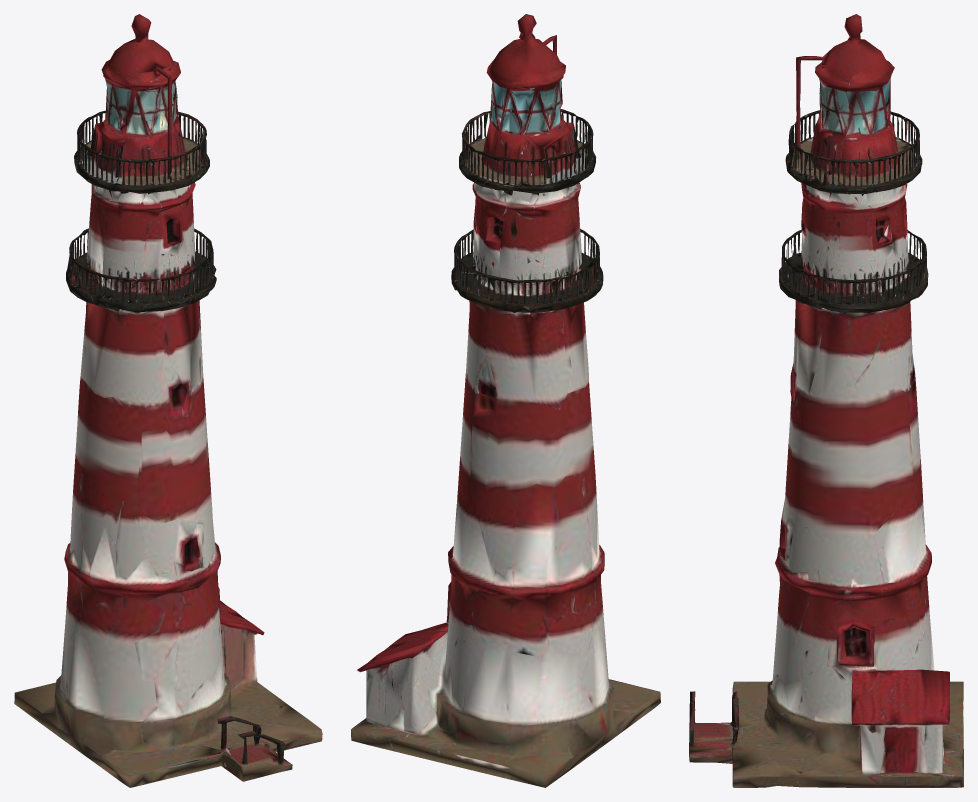
Rendered from lighthouse.glb.
3 renders of one model, left to right at view 1: azimuth 30°, elevation 25°; view 2: azimuth 150°, elevation 25°; view 3: azimuth 270°, elevation 25°, orthographic.
Size of the model in its own units: 0.5506 by 1.9 by 0.6638.
Materials: 1 (1 with a texture image).
